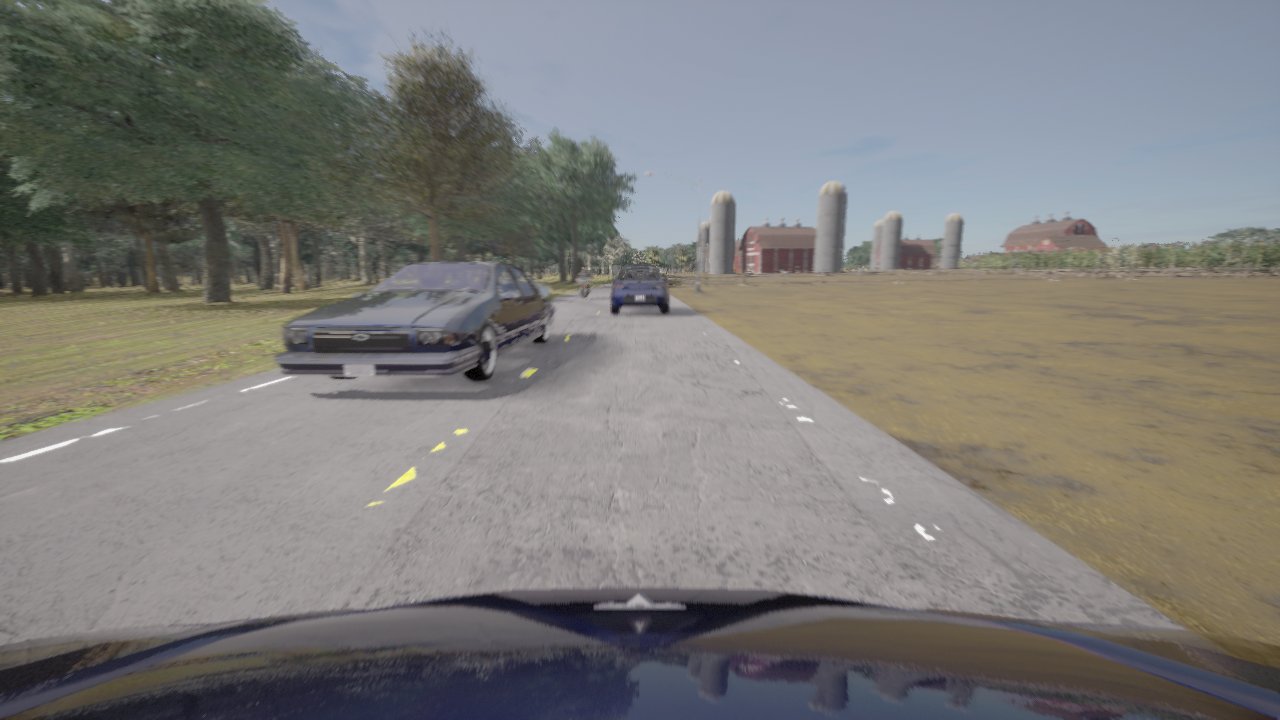cyclist: (0, 588, 1279, 719), (274, 260, 555, 381), (611, 266, 668, 314), (575, 275, 591, 299)
